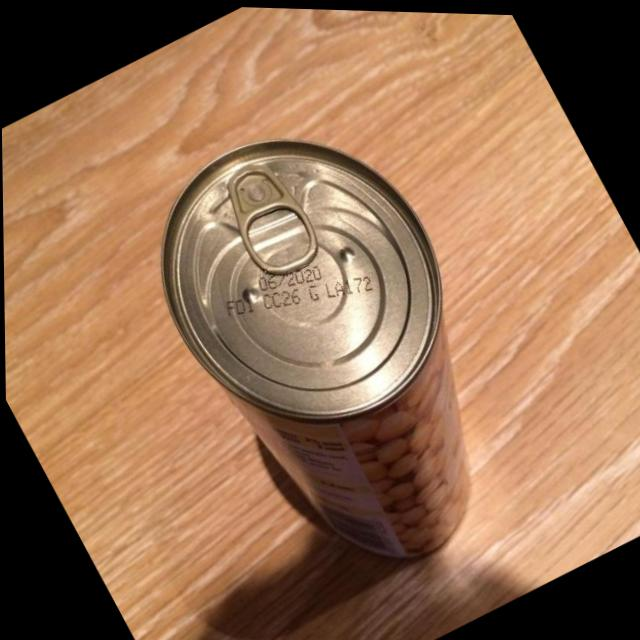metal: (88, 100, 633, 639)
